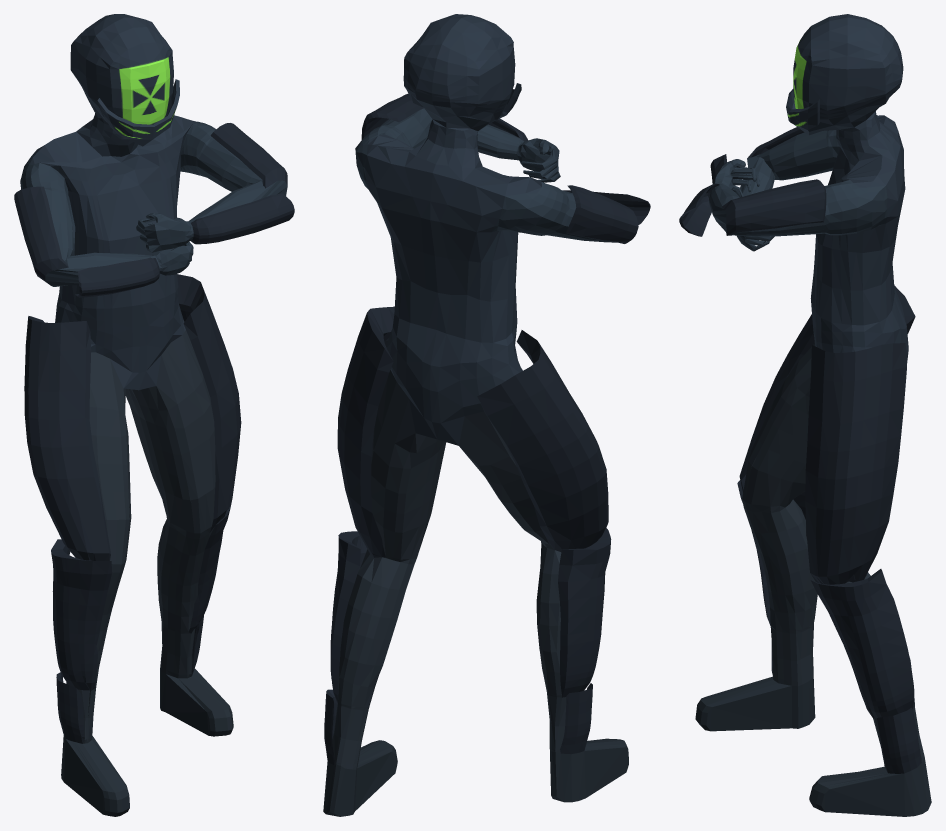
Rendered from Bastion_WF_000016.obj.
3 renders of one model, left to right at view 1: azimuth 30°, elevation 25°; view 2: azimuth 150°, elevation 25°; view 3: azimuth 270°, elevation 25°, orthographic. The views are drawn at different scales.
Visible parts, largest first — view 1: Cube.002; view 2: Cube.002; view 3: Cube.002.
Boxes of the visible parts, x1=… form: Cube.002: x1=14, y1=14, x2=294, y2=816; Cube.002: x1=323, y1=14, x2=650, y2=816; Cube.002: x1=679, y1=14, x2=931, y2=816.
Bounding box in the file's own units: 1.31 × 3.82 × 1.16.
